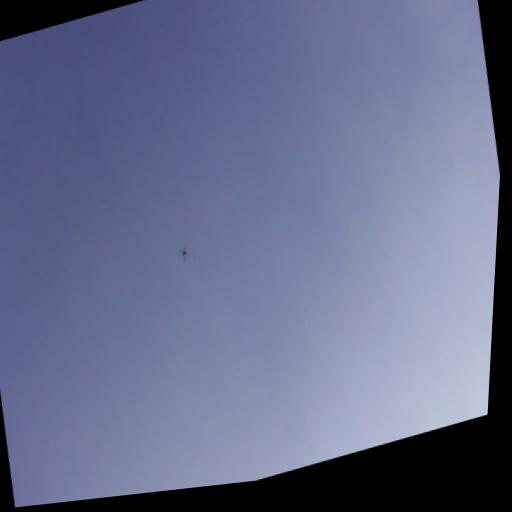drones: (177, 245, 191, 264)
